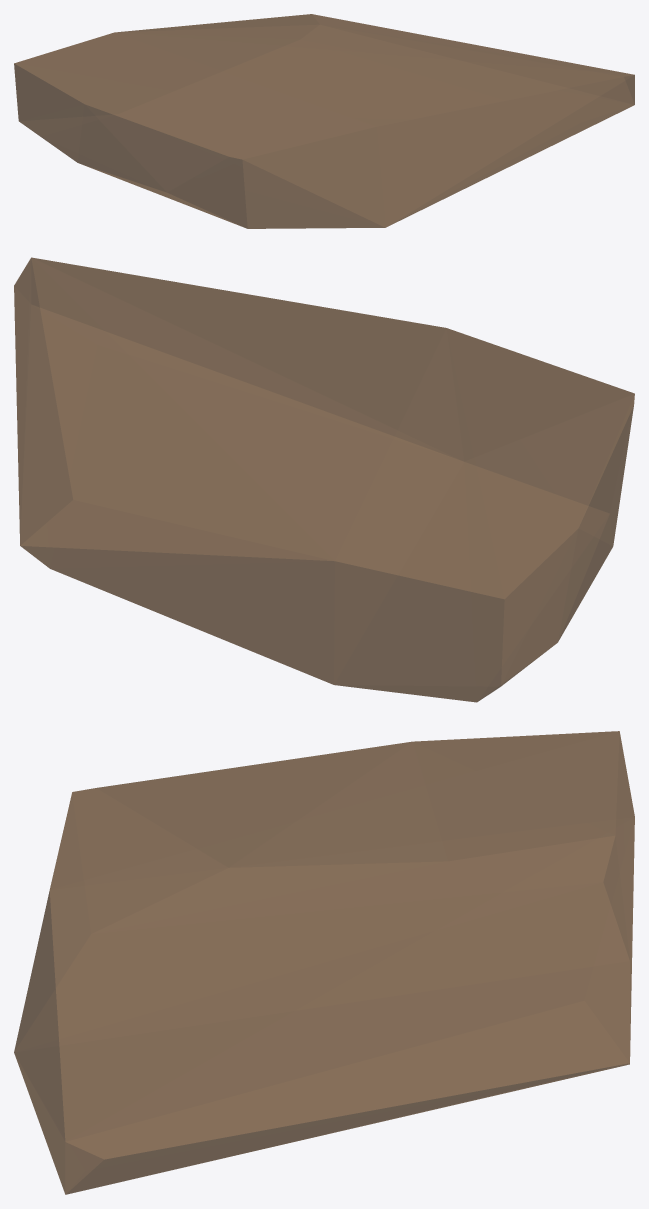
3 renders of one model, top to bottom at view 1: azimuth 30°, elevation 25°; view 2: azimuth 150°, elevation 25°; view 3: azimuth 270°, elevation 25°, orthographic. The views are drawn at different scales.
Visible parts, largest first — view 1: Shape_IndexedFaceSet.021_Shape_IndexedFaceSet.5697; view 2: Shape_IndexedFaceSet.021_Shape_IndexedFaceSet.5697; view 3: Shape_IndexedFaceSet.021_Shape_IndexedFaceSet.5697.
Part boxes in pixels (bbox=[...]): Shape_IndexedFaceSet.021_Shape_IndexedFaceSet.5697: bbox=[14, 14, 634, 228]; Shape_IndexedFaceSet.021_Shape_IndexedFaceSet.5697: bbox=[14, 257, 634, 702]; Shape_IndexedFaceSet.021_Shape_IndexedFaceSet.5697: bbox=[14, 731, 634, 1194].
Size of the model in its own units: 0.1519 by 0.0293 by 0.1007.
